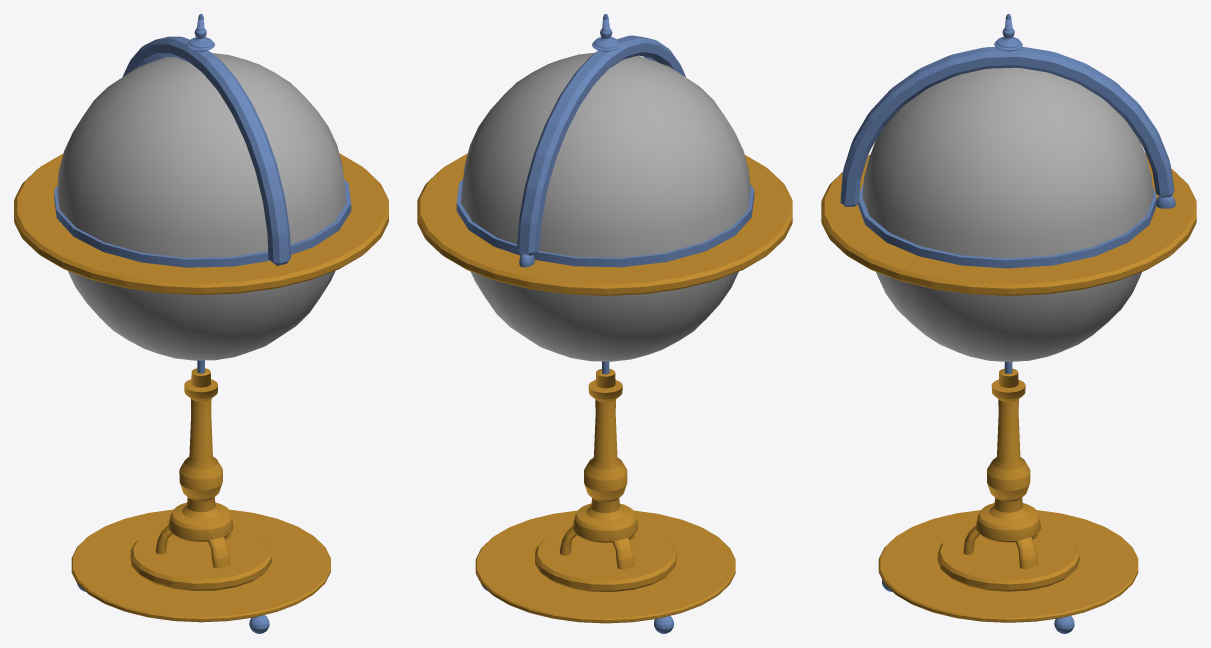
The model's file is globe.fbx.
The picture shows the model from 3 angles, left to right: view 1: azimuth 30°, elevation 25°; view 2: azimuth 150°, elevation 25°; view 3: azimuth 270°, elevation 25°; orthographic projection.
Parts seen in each view (by area): view 1: top_dome, bottom_table, table, bottom_dome, leg; view 2: top_dome, bottom_table, table, bottom_dome, leg; view 3: top_dome, bottom_table, table, bottom_dome, leg.
Boxes of the visible parts, <box> form: top_dome: <box>54,14,351,267</box>; bottom_table: <box>71,509,330,622</box>; table: <box>14,153,388,294</box>; bottom_dome: <box>68,270,335,360</box>; leg: <box>155,368,233,568</box>; top_dome: <box>456,14,754,267</box>; bottom_table: <box>475,510,735,623</box>; table: <box>417,153,792,295</box>; bottom_dome: <box>470,271,738,361</box>; leg: <box>559,369,637,569</box>; top_dome: <box>840,14,1174,268</box>; bottom_table: <box>878,510,1138,622</box>; table: <box>821,153,1196,295</box>; bottom_dome: <box>876,272,1141,361</box>; leg: <box>963,368,1040,568</box>.
Size of the model in its own units: 0.0529 by 0.0892 by 0.0527.
